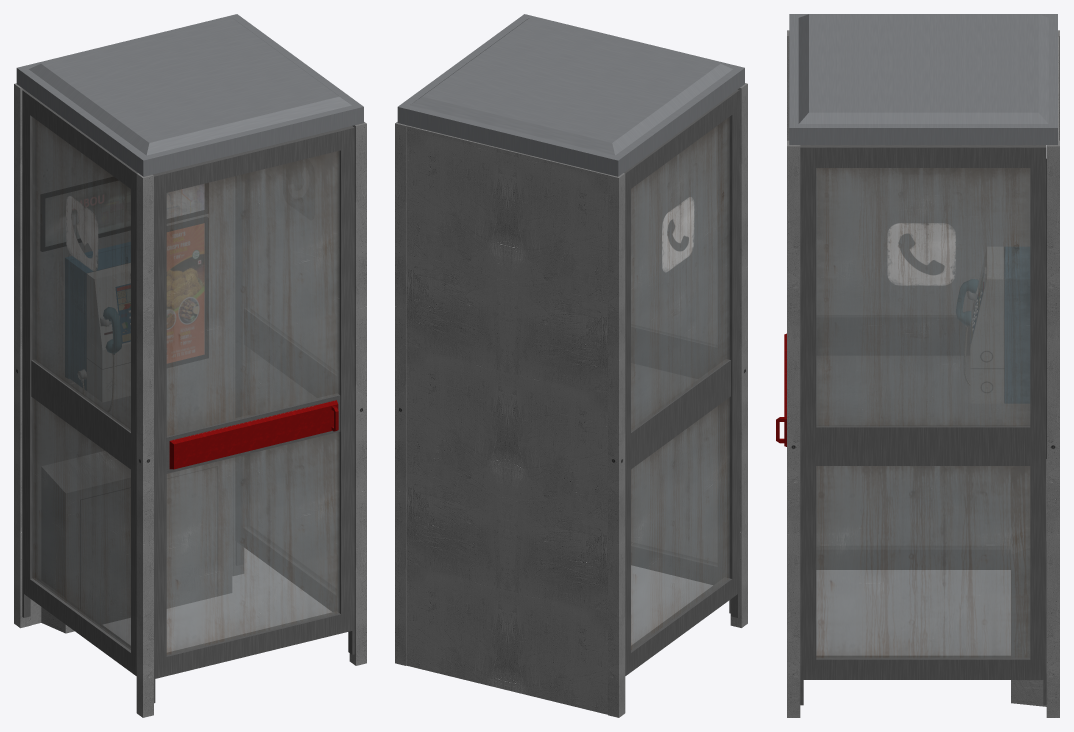
Rendered from phone_booth.glb.
The picture shows the model from 3 angles, left to right: view 1: azimuth 30°, elevation 25°; view 2: azimuth 150°, elevation 25°; view 3: azimuth 270°, elevation 25°; orthographic projection. The views are drawn at different scales.
Visible parts, largest first — view 1: Object_3, Object_4, Object_5; view 2: Object_4, Object_3; view 3: Object_3, Object_4, Object_5.
Part boxes in pixels (x1=…): Object_3: x1=16, y1=14, x2=363, y2=655; Object_4: x1=14, y1=83, x2=366, y2=717; Object_5: x1=65, y1=242, x2=130, y2=411; Object_4: x1=395, y1=83, x2=747, y2=717; Object_3: x1=397, y1=14, x2=744, y2=649; Object_3: x1=789, y1=14, x2=1057, y2=658; Object_4: x1=776, y1=30, x2=1059, y2=717; Object_5: x1=956, y1=247, x2=1029, y2=402.
Size of the model in its own units: 3.65 by 8.78 by 3.78.
Materials: 3 (3 with a texture image).
